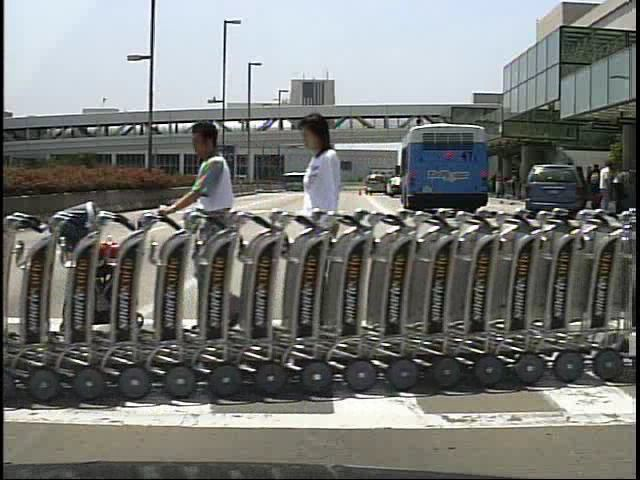person: (166, 120, 249, 343), (291, 116, 365, 349), (596, 160, 617, 210), (588, 163, 604, 211)
